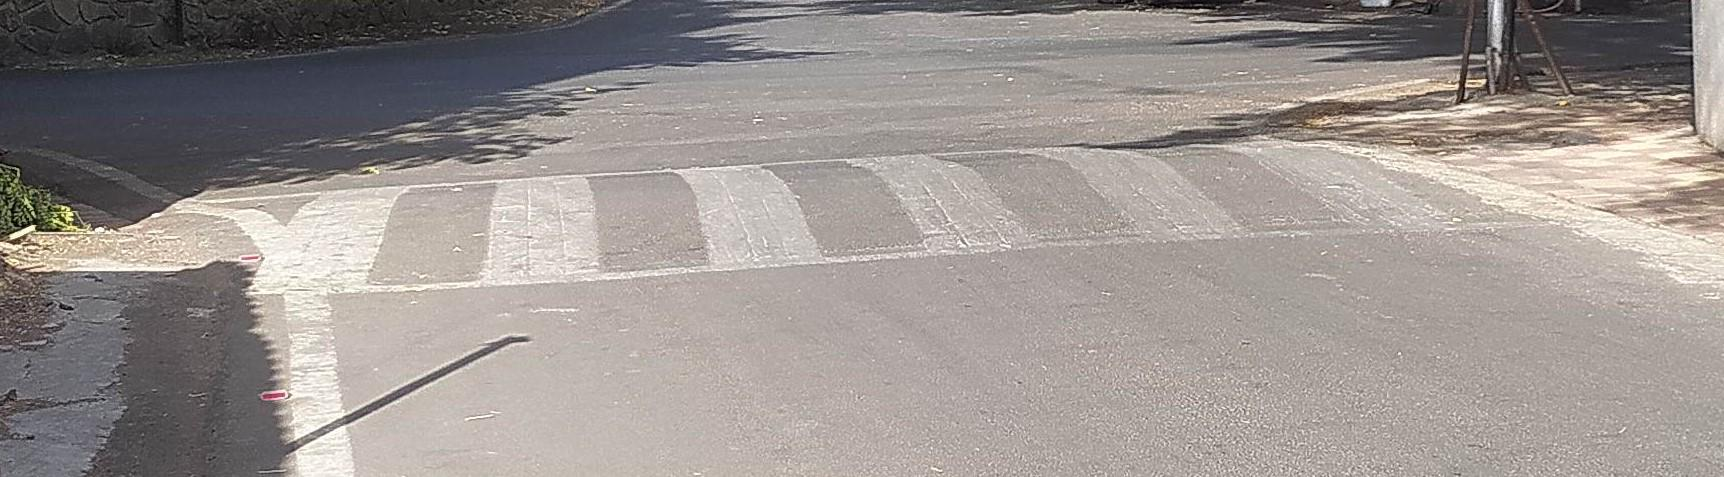speed-bump: (156, 122, 1539, 293)
